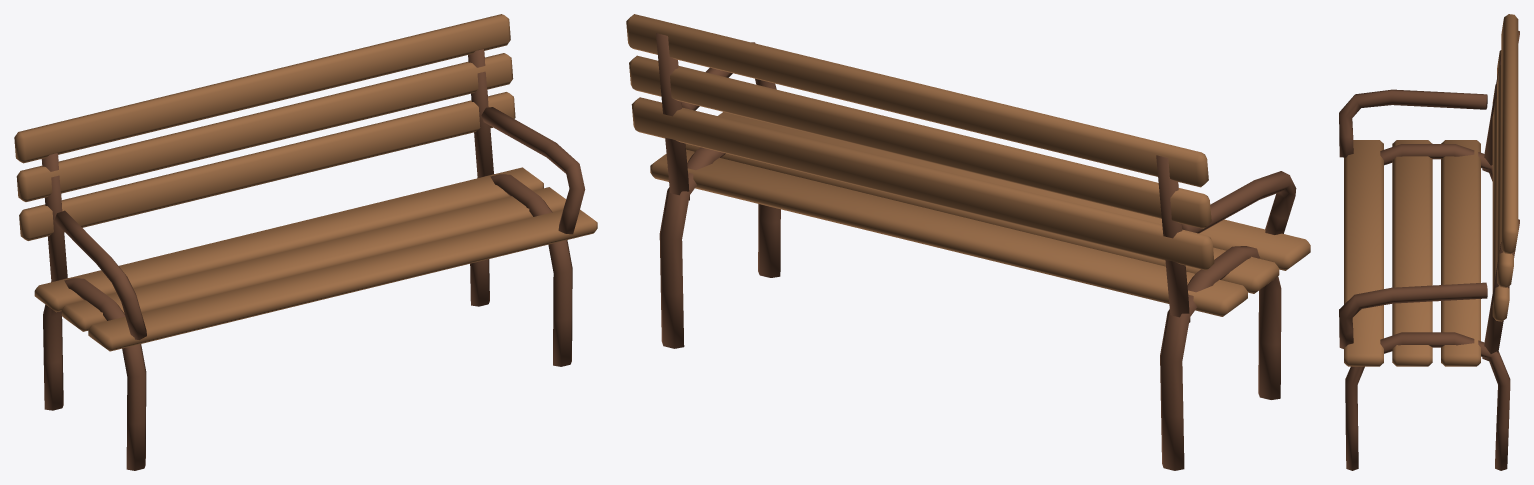
The model's file is bench.glb.
3 renders of one model, left to right at view 1: azimuth 30°, elevation 25°; view 2: azimuth 150°, elevation 25°; view 3: azimuth 270°, elevation 25°, orthographic. The views are drawn at different scales.
Parts seen in each view (by area): view 1: bench:mesh; view 2: bench:mesh; view 3: bench:mesh.
Boxes of the visible parts, left/top/right/bottom form: bench:mesh: left=14, top=14, right=597, bottom=470; bench:mesh: left=626, top=14, right=1310, bottom=470; bench:mesh: left=1339, top=14, right=1519, bottom=470.
Size of the model in its own units: 1.8 by 0.9717 by 0.6325.
